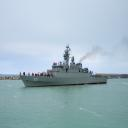Fragata: (20, 44, 109, 90)
